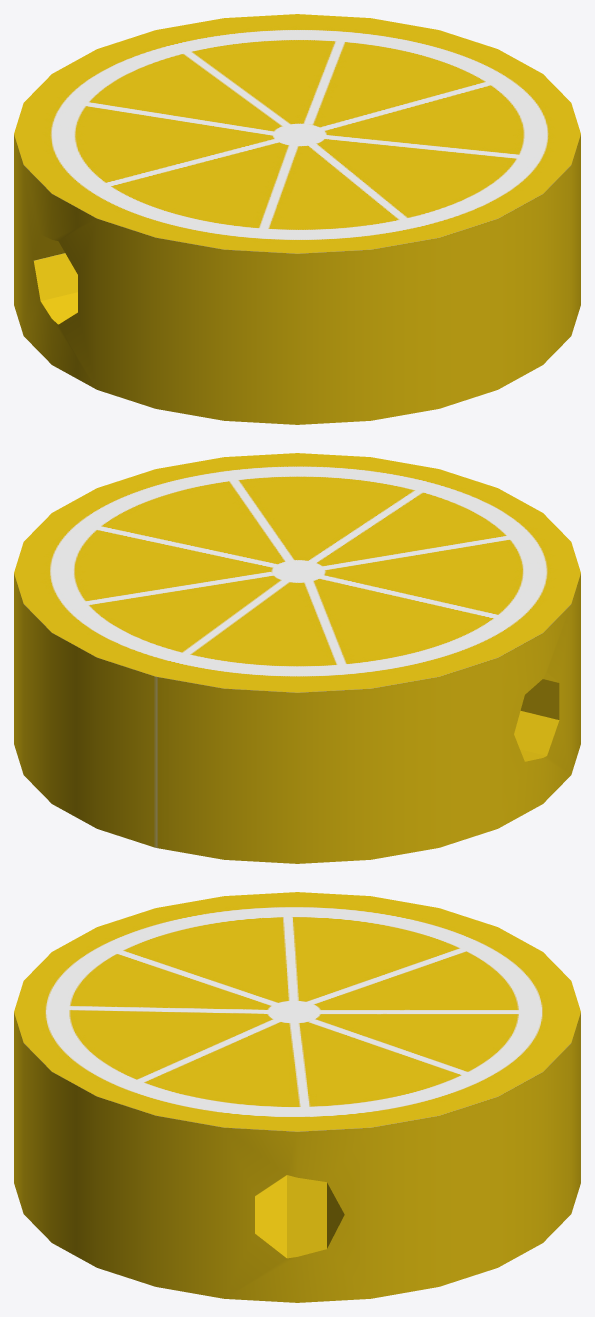
File: Limon.fbx
The picture shows the model from 3 angles, top to bottom: view 1: azimuth 30°, elevation 25°; view 2: azimuth 150°, elevation 25°; view 3: azimuth 270°, elevation 25°; orthographic projection.
Parts seen in each view (by area): view 1: Cylinder.004; view 2: Cylinder.004; view 3: Cylinder.004.
Part boxes in pixels (<box>): Cylinder.004: <box>14,14,580,424</box>; Cylinder.004: <box>14,453,580,863</box>; Cylinder.004: <box>14,892,580,1302</box>.
Size of the model in its own units: 19.36 by 6.45 by 19.36.
